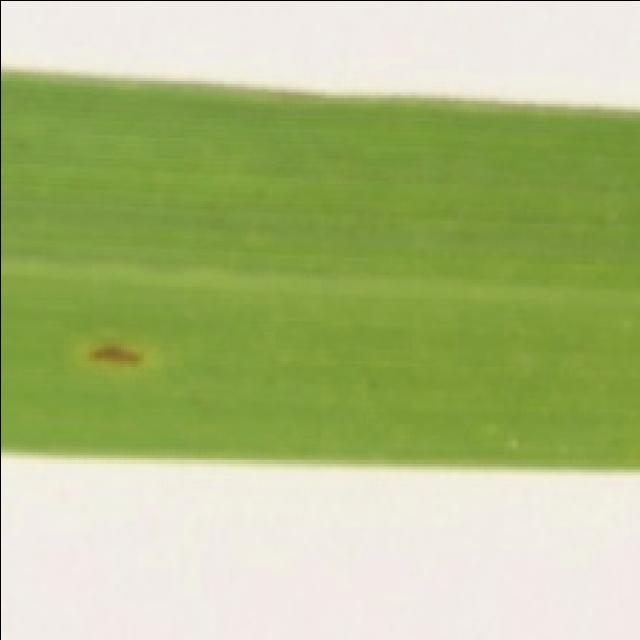Unhealthy: (87, 342, 143, 366)
